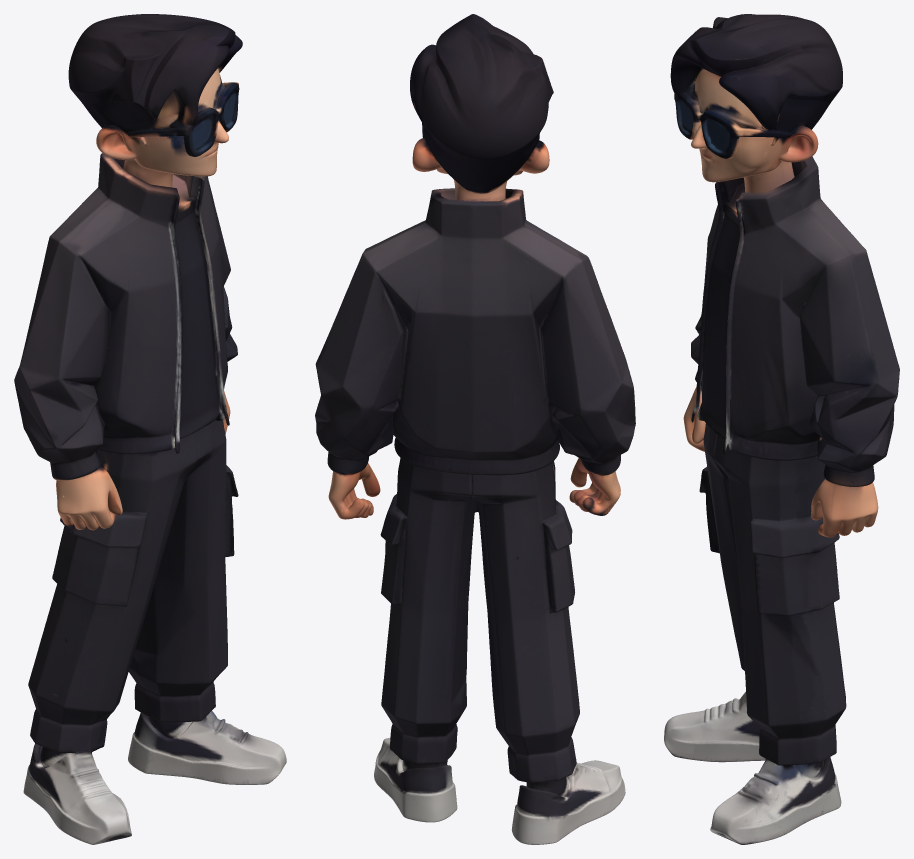
The model's file is cashier-leftmost-web.glb.
The picture shows the model from 3 angles, left to right: view 1: azimuth 30°, elevation 25°; view 2: azimuth 150°, elevation 25°; view 3: azimuth 270°, elevation 25°; orthographic projection. The views are drawn at different scales.
Visible parts, largest first — view 1: Leftmost full-body cashier · supplied asset; view 2: Leftmost full-body cashier · supplied asset; view 3: Leftmost full-body cashier · supplied asset.
Boxes of the visible parts, x1,y1,x2,y2 form: Leftmost full-body cashier · supplied asset: [14, 14, 286, 844]; Leftmost full-body cashier · supplied asset: [315, 14, 635, 844]; Leftmost full-body cashier · supplied asset: [664, 14, 899, 844].
Bounding box in the file's own units: 1.13 × 3.19 × 0.8836.
1 material, 1 textured.
